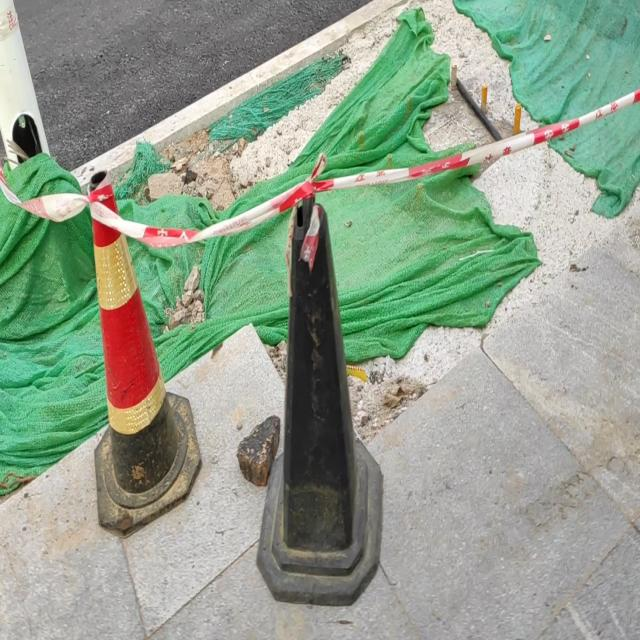reflective_cone: (255, 198, 384, 604), (68, 172, 200, 534)
